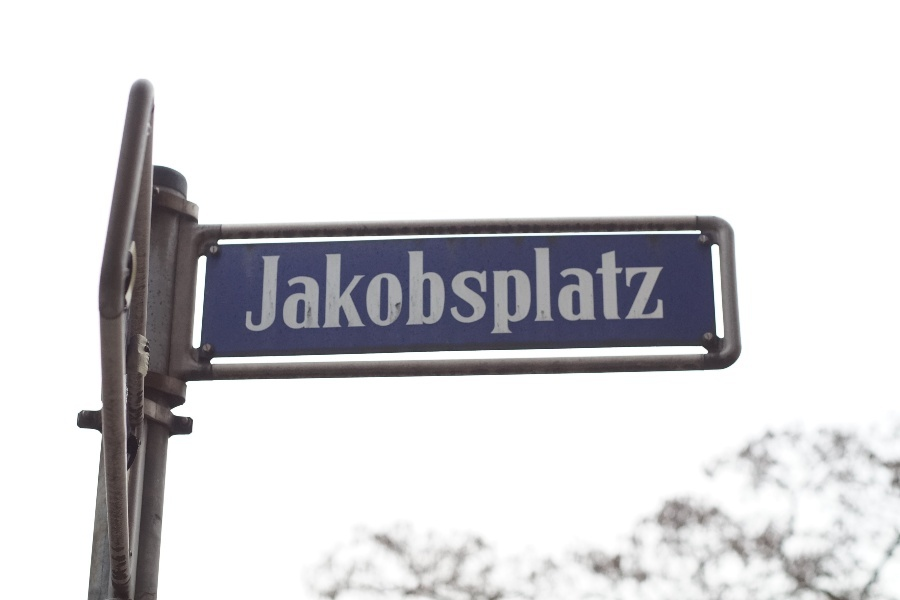text: (273, 243, 288, 336), (289, 243, 304, 336), (305, 243, 320, 336), (321, 243, 336, 336), (337, 243, 352, 336), (353, 243, 368, 336), (369, 243, 384, 336), (385, 243, 400, 336), (401, 243, 416, 336), (417, 243, 432, 336), (433, 243, 448, 336), (449, 243, 464, 336), (465, 243, 480, 336), (481, 243, 496, 336), (497, 243, 512, 336), (513, 243, 528, 336), (529, 243, 544, 336), (545, 243, 560, 336), (561, 243, 576, 336), (577, 243, 592, 336), (593, 243, 608, 336), (609, 243, 624, 336), (625, 243, 640, 336), (641, 243, 656, 336), (259, 243, 272, 336), (657, 243, 666, 336)
